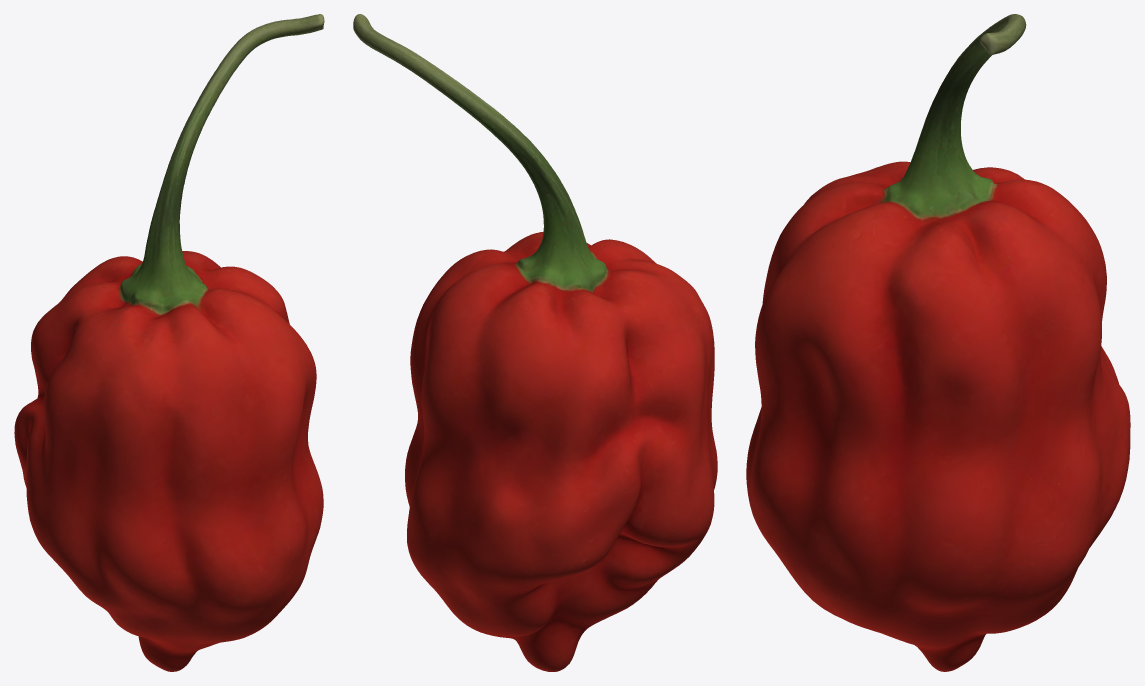
File: habanero.glb
3 renders of one model, left to right at view 1: azimuth 30°, elevation 25°; view 2: azimuth 150°, elevation 25°; view 3: azimuth 270°, elevation 25°, orthographic. The views are drawn at different scales.
Size of the model in its own units: 1.01 by 1.9 by 0.9003.
Materials: 1 (1 with a texture image).
